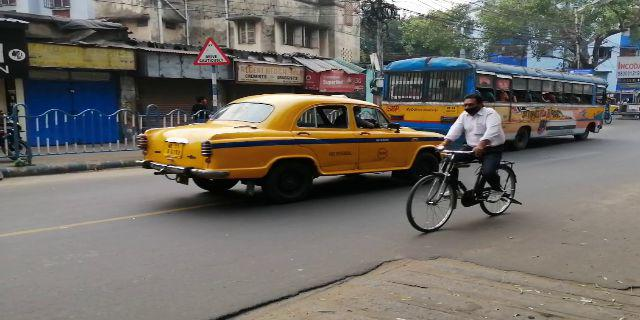Bus: (383, 55, 613, 143)
Car: (136, 94, 443, 179)
Cycle: (404, 97, 521, 232)
